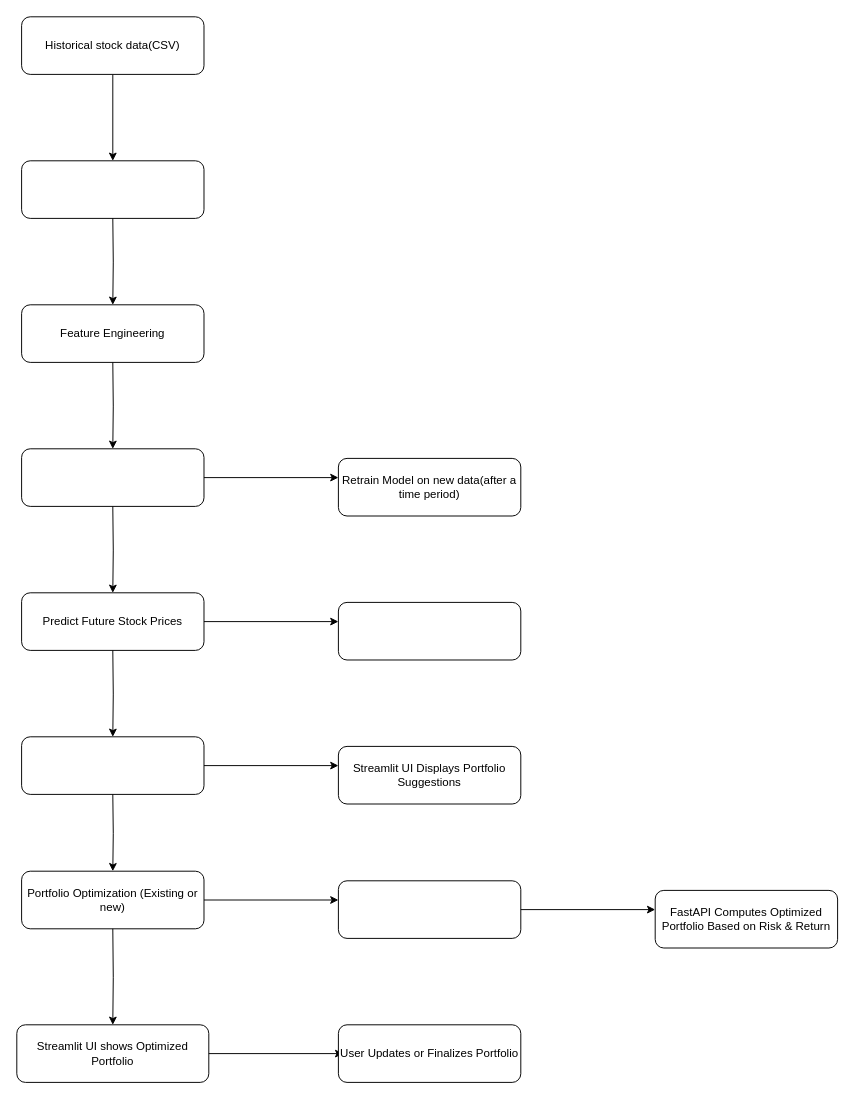
Image size: 854x1099. Some labels were removed from this diagram. Here are the shapes that lost their labels. From the top down, the centre of each, then its label:
point (112, 189): Preprocessing Data
point (112, 477): Train Stock Price Prediction Model (LSTM/GRU)
point (429, 630): FastAPI Predicts Future Prices
point (112, 765): Use Predictions in Modern Portfolio Theory(MPT)
point (429, 909): Optimize User's Portfolio
